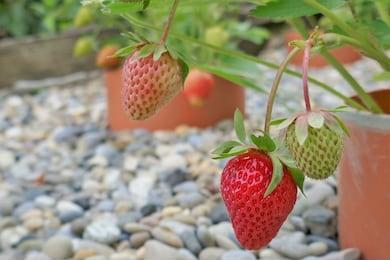Fresa: (215, 137, 303, 257)
